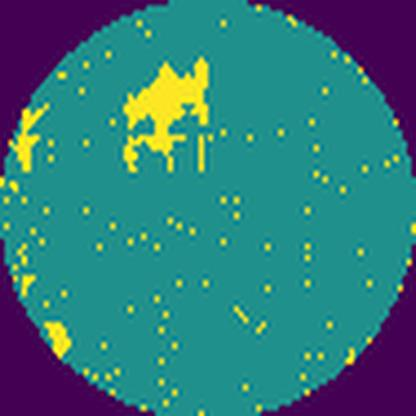Loc: (121, 54, 212, 175)
